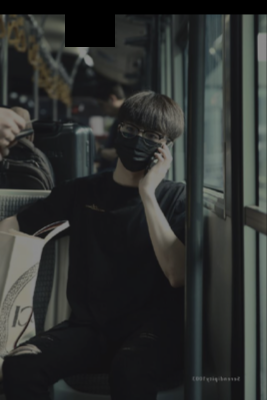with_mask: (114, 119, 166, 172)
